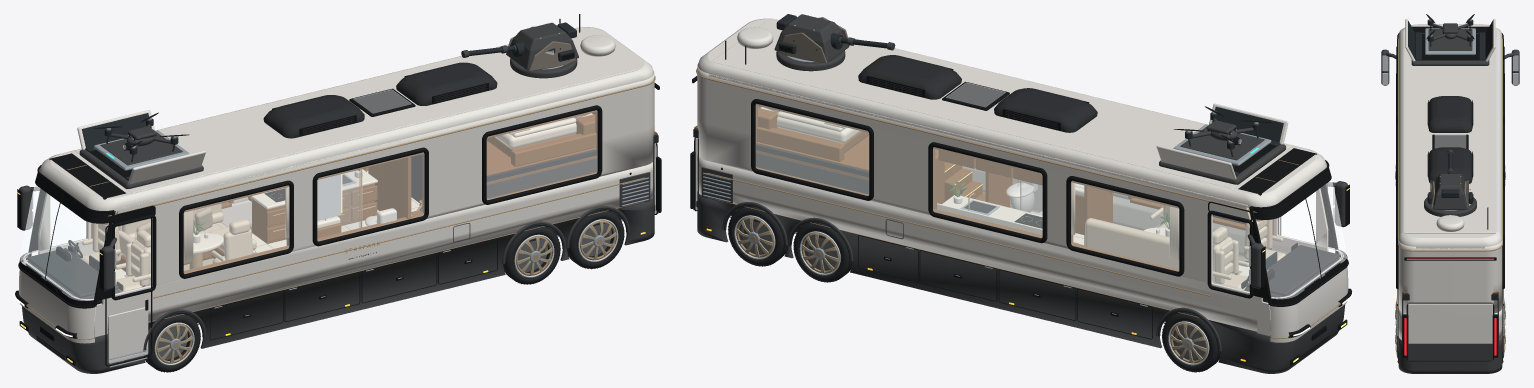
File: starpark.glb
3 views of the same model, side by side, from view 1: azimuth 30°, elevation 25°; view 2: azimuth 150°, elevation 25°; view 3: azimuth 270°, elevation 25° (orthographic). The views are drawn at different scales.
Visible parts, largest first — view 1: WEBMESH_body, WEBMESH_roof, WEBMESH_trim, WEBMESH_wheels, WEBMESH_drone, WEBMESH_cockpit, WEBMESH_bedroom, WEBMESH_kitchen, WEBMESH_lounge, WEBMESH_roofprop, WEBMESH_bathroom_cutaway_cover, WEBMESH_floor (+5 smaller); view 2: WEBMESH_body, WEBMESH_roof, WEBMESH_trim, WEBMESH_wheels, WEBMESH_drone, WEBMESH_bedroom, WEBMESH_cockpit, WEBMESH_roofprop, WEBMESH_kitchen, WEBMESH_lounge, WEBMESH_floor_cutaway_cover, WEBMESH_floor (+4 smaller); view 3: WEBMESH_roof, WEBMESH_body, WEBMESH_trim_hatch, WEBMESH_drone, WEBMESH_trim, WEBMESH_roofprop, WEBMESH_wheels, WEBMESH_floor.
Boxes of the visible parts, x1,y1,x2,y2 form: WEBMESH_body: [18, 27, 654, 373]; WEBMESH_roof: [49, 14, 640, 199]; WEBMESH_trim: [14, 75, 661, 367]; WEBMESH_wheels: [144, 210, 624, 372]; WEBMESH_drone: [77, 110, 205, 189]; WEBMESH_cockpit: [25, 223, 150, 304]; WEBMESH_bedroom: [411, 112, 597, 214]; WEBMESH_kitchen: [251, 164, 382, 243]; WEBMESH_lounge: [116, 203, 256, 277]; WEBMESH_roofprop: [461, 22, 578, 78]; WEBMESH_bathroom_cutaway_cover: [286, 156, 411, 245]; WEBMESH_floor: [94, 131, 658, 319]; WEBMESH_body: [697, 18, 1348, 373]; WEBMESH_roof: [711, 18, 1316, 195]; WEBMESH_trim: [690, 68, 1352, 365]; WEBMESH_wheels: [728, 206, 1220, 372]; WEBMESH_drone: [1156, 103, 1288, 184]; WEBMESH_bedroom: [756, 106, 985, 201]; WEBMESH_cockpit: [1212, 219, 1341, 302]; WEBMESH_roofprop: [774, 14, 895, 71]; WEBMESH_kitchen: [935, 149, 1042, 235]; WEBMESH_lounge: [1085, 205, 1242, 274]; WEBMESH_floor_cutaway_cover: [755, 104, 1263, 271]; WEBMESH_floor: [693, 125, 1270, 318]; WEBMESH_roof: [1404, 26, 1496, 233]; WEBMESH_body: [1396, 24, 1504, 373]; WEBMESH_trim_hatch: [1408, 303, 1492, 360]; WEBMESH_drone: [1405, 14, 1495, 65]; WEBMESH_trim: [1381, 38, 1519, 361]; WEBMESH_roofprop: [1424, 149, 1476, 216]; WEBMESH_wheels: [1395, 165, 1505, 363]; WEBMESH_floor: [1402, 291, 1498, 313].
Bounding box in the file's own units: 13.64 × 4.83 × 3.49.
